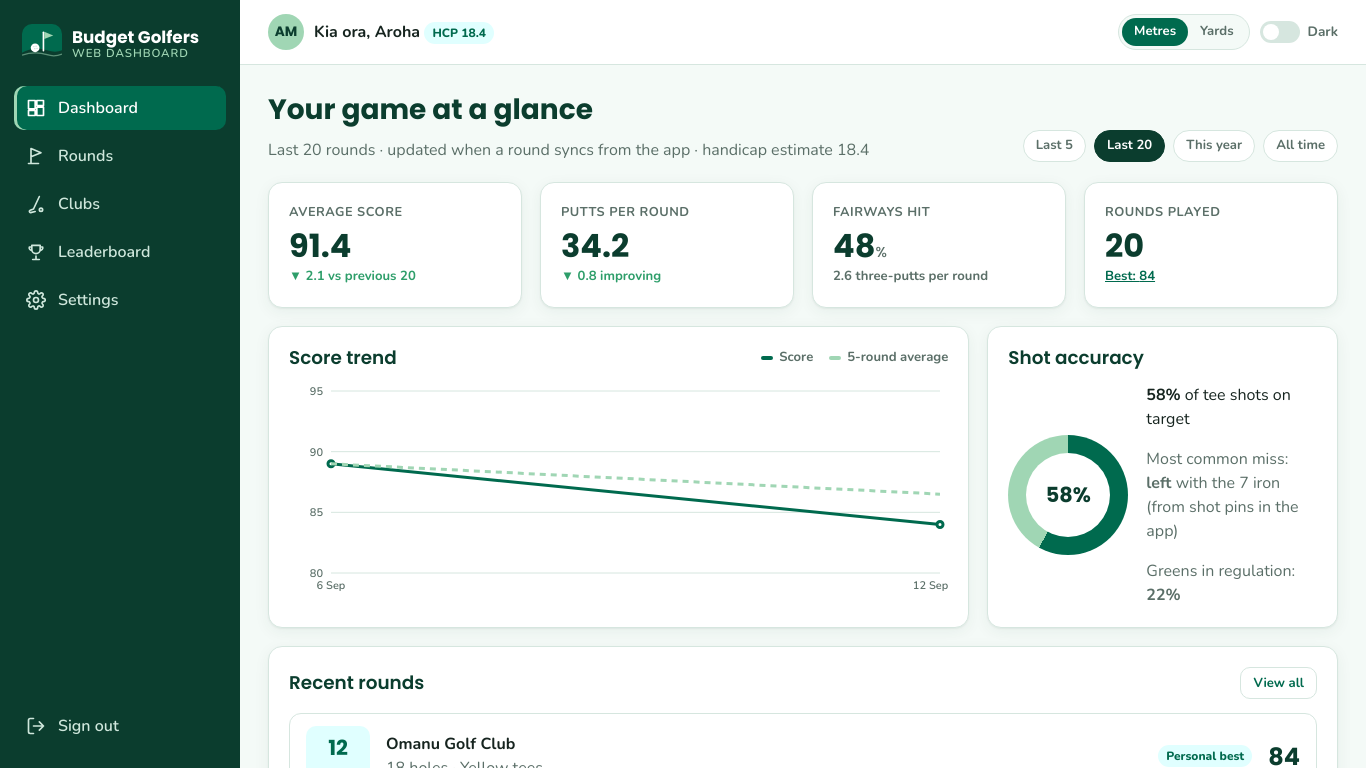
Test: dashboard › a period chip changes the URL and asks for that period
The width and height of the screenshot is (1366, 768).
Check: the text "91.4" is shown, box [289,223,351,268]
Click the link "Last 5" at (1054, 146), box [1023,130,1086,162]
(page scrolled)
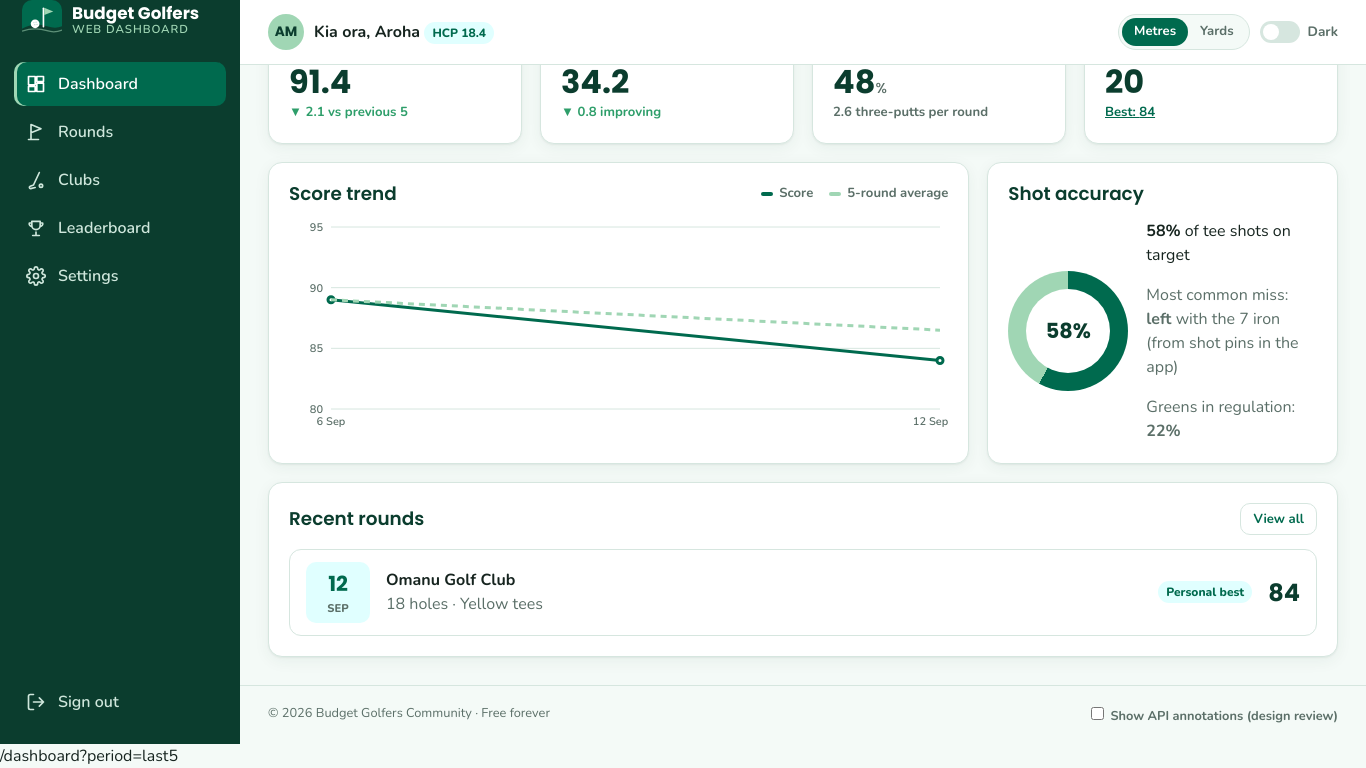
Check: the text with test id "location" reads "/dashboard?period=last5", box [0,745,178,767]
